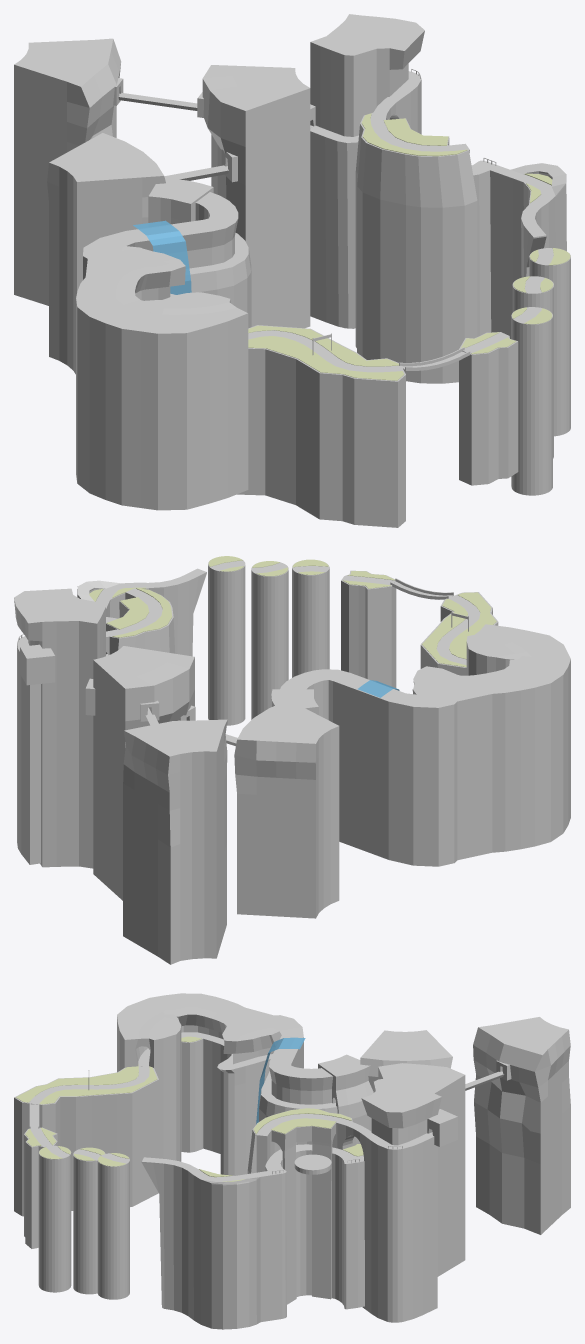
Rendered from LD 2 - Canyon track v08.fbx.
3 views of the same model, one above another, from view 1: azimuth 30°, elevation 25°; view 2: azimuth 150°, elevation 25°; view 3: azimuth 270°, elevation 25° (orthographic). The views are drawn at different scales.
Visible parts, largest first — view 1: Waterfall track, Cube.017, Start plateau, Cube, Cube.019, Cube.004, Cube.003, Cube.021, Pillar End Plateau, Pillar 3, Pillar 1, Start Off-track 1 (+8 smaller); view 2: Waterfall track, Cube.004, Cube.003, Cube.021, Cube, Cube.017, Pillar 1, Pillar End Plateau, Pillar 2, Pillar 3, Cube.019, Start plateau (+6 smaller); view 3: Cube.019, Waterfall track, Cube.004, Cube.017, Start plateau, Cube, Cylinder.007, Pillar 3, Pillar 1, Cube.021, Pillar 2, Cube.003 (+9 smaller).
Part boxes in pixels (left/top/right/bottom): Waterfall track: left=76, top=178, right=251, bottom=510; Cube.017: left=355, top=71, right=477, bottom=383; Start plateau: left=237, top=325, right=405, bottom=527; Cube: left=202, top=65, right=310, bottom=328; Cube.019: left=310, top=125, right=566, bottom=338; Cube.004: left=14, top=38, right=121, bottom=305; Cube.003: left=47, top=133, right=165, bottom=374; Cube.021: left=310, top=14, right=424, bottom=328; Pillar End Plateau: left=459, top=332, right=518, bottom=485; Pillar 3: left=511, top=307, right=552, bottom=495; Pillar 1: left=529, top=248, right=570, bottom=436; Start Off-track 1: left=248, top=336, right=404, bottom=380; Waterfall track: left=271, top=624, right=570, bottom=866; Cube.004: left=123, top=719, right=227, bottom=964; Cube.003: left=234, top=700, right=339, bottom=918; Cube.021: left=14, top=588, right=105, bottom=868; Cube: left=93, top=646, right=194, bottom=900; Cube.017: left=17, top=588, right=175, bottom=864; Pillar 1: left=208, top=560, right=245, bottom=725; Pillar End Plateau: left=341, top=570, right=396, bottom=687; Pillar 2: left=251, top=562, right=288, bottom=719; Pillar 3: left=292, top=562, right=329, bottom=677; Cube.019: left=77, top=568, right=206, bottom=656; Start plateau: left=420, top=592, right=498, bottom=675; Cube.019: left=141, top=1144, right=364, bottom=1329; Waterfall track: left=117, top=993, right=373, bottom=1175; Cube.004: left=473, top=1017, right=570, bottom=1234; Cube.017: left=247, top=1108, right=437, bottom=1322; Start plateau: left=14, top=1066, right=158, bottom=1216; Cube: left=378, top=1063, right=465, bottom=1276; Cylinder.007: left=271, top=1122, right=335, bottom=1304; Pillar 3: left=38, top=1145, right=71, bottom=1292; Pillar 1: left=97, top=1153, right=129, bottom=1299; Cube.021: left=361, top=1075, right=441, bottom=1145; Pillar 2: left=73, top=1149, right=105, bottom=1294; Cube.003: left=360, top=1030, right=452, bottom=1091.
Size of what is drawn, in the model's own units: 9331 by 4866 by 11439.
